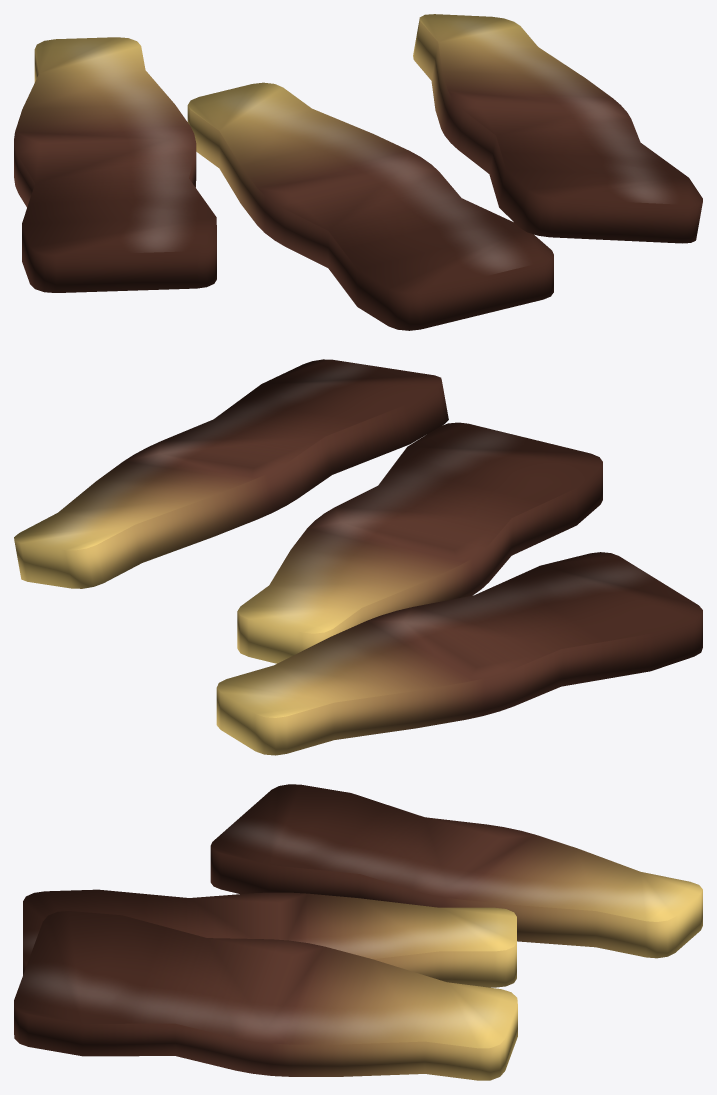
Rendered from VFX_ColaGummy.fbx.
3 views of the same model, one above another, from view 1: azimuth 30°, elevation 25°; view 2: azimuth 150°, elevation 25°; view 3: azimuth 270°, elevation 25° (orthographic). The views are drawn at different scales.
Visible parts, largest first — view 1: Cola Gummy; view 2: Cola Gummy; view 3: Cola Gummy.
Part boxes in pixels (<box>): Cola Gummy: <box>14,14,702,330</box>; Cola Gummy: <box>14,359,702,755</box>; Cola Gummy: <box>14,784,702,1080</box>.
Size of the model in its own units: 0.0851 by 0.0127 by 0.09.
